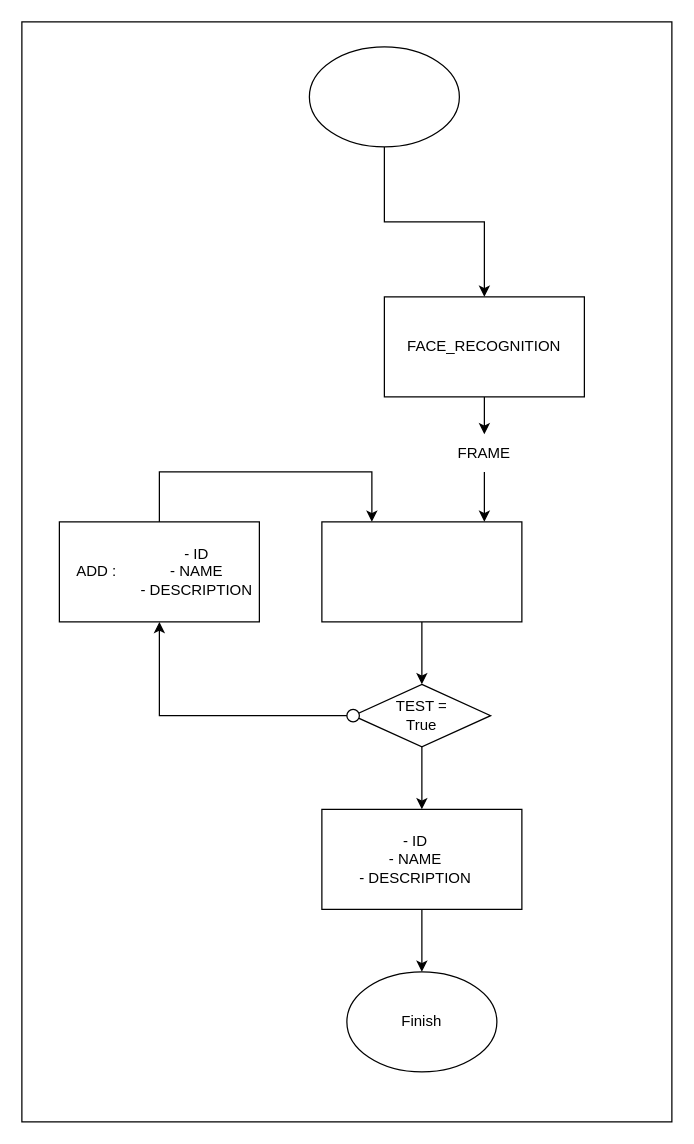
This 694x1144 diagram has some shape labels left out. Here are the shapes that lost their labels. From the top down, the centre of each, then its label:
the point at 383,96: Init
the point at 421,571: DATA_BASE
